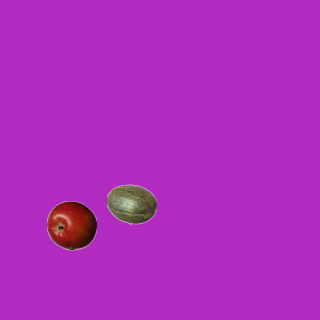Apple Braeburn: (46, 200, 96, 250)
Melon Piel de Sapo: (106, 179, 156, 229)
